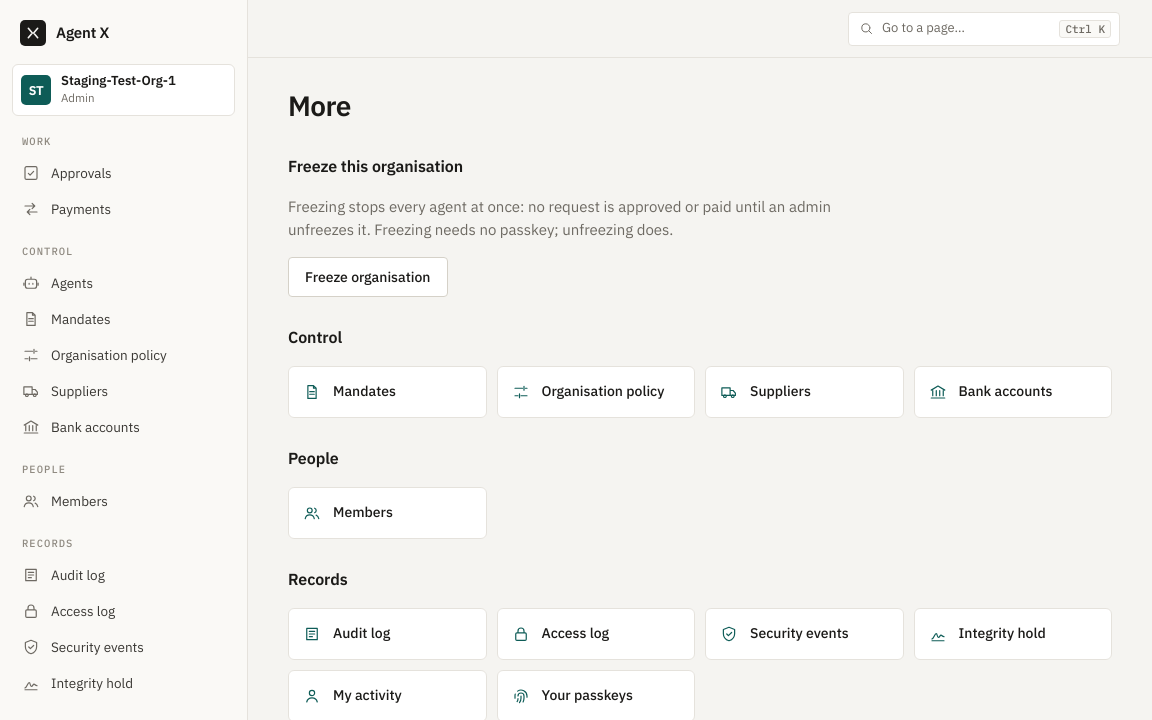
Scenario: the mandates list › lists each mandate with its agent and status, linked to its page, from More
The width and height of the screenshot is (1152, 720).
Step 1. Click the link "Mandates" below "Freeze this organisation" → (387, 392), box [288,366,486,418]
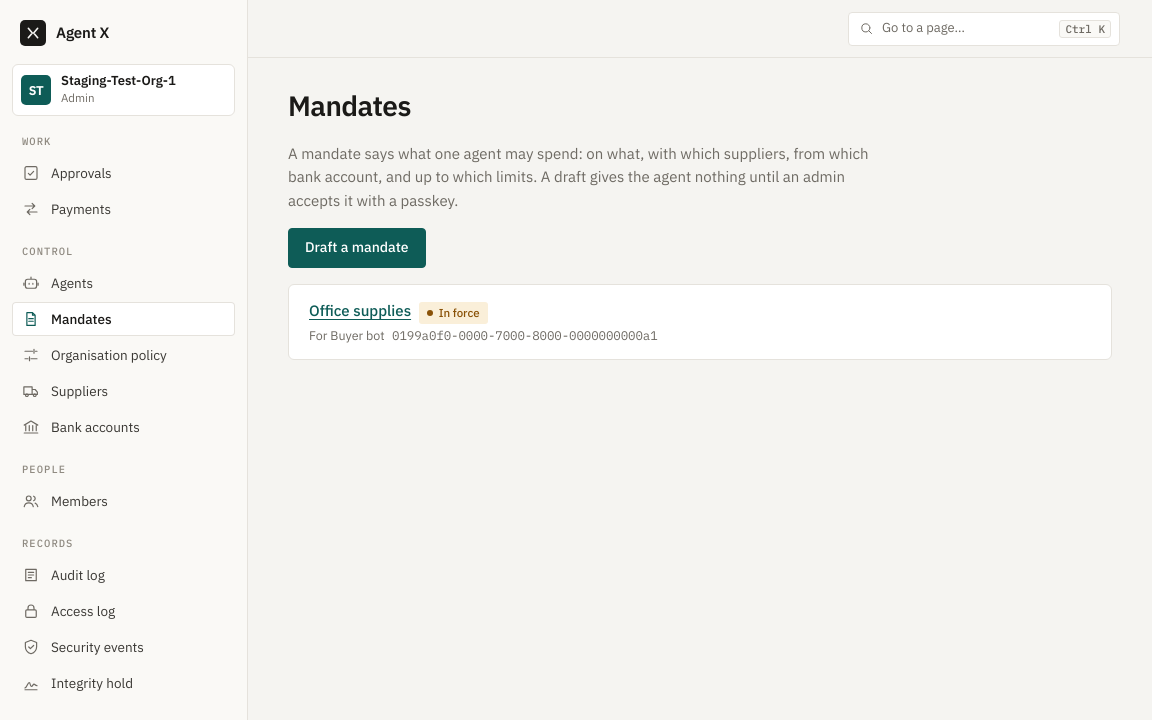
Check: the link "Office supplies" is shown, box [309,301,411,320]
Check: the text "For Buyer bot" is shown, box [309,327,385,343]
Check: the text "In force" is shown, box [419,302,488,324]
